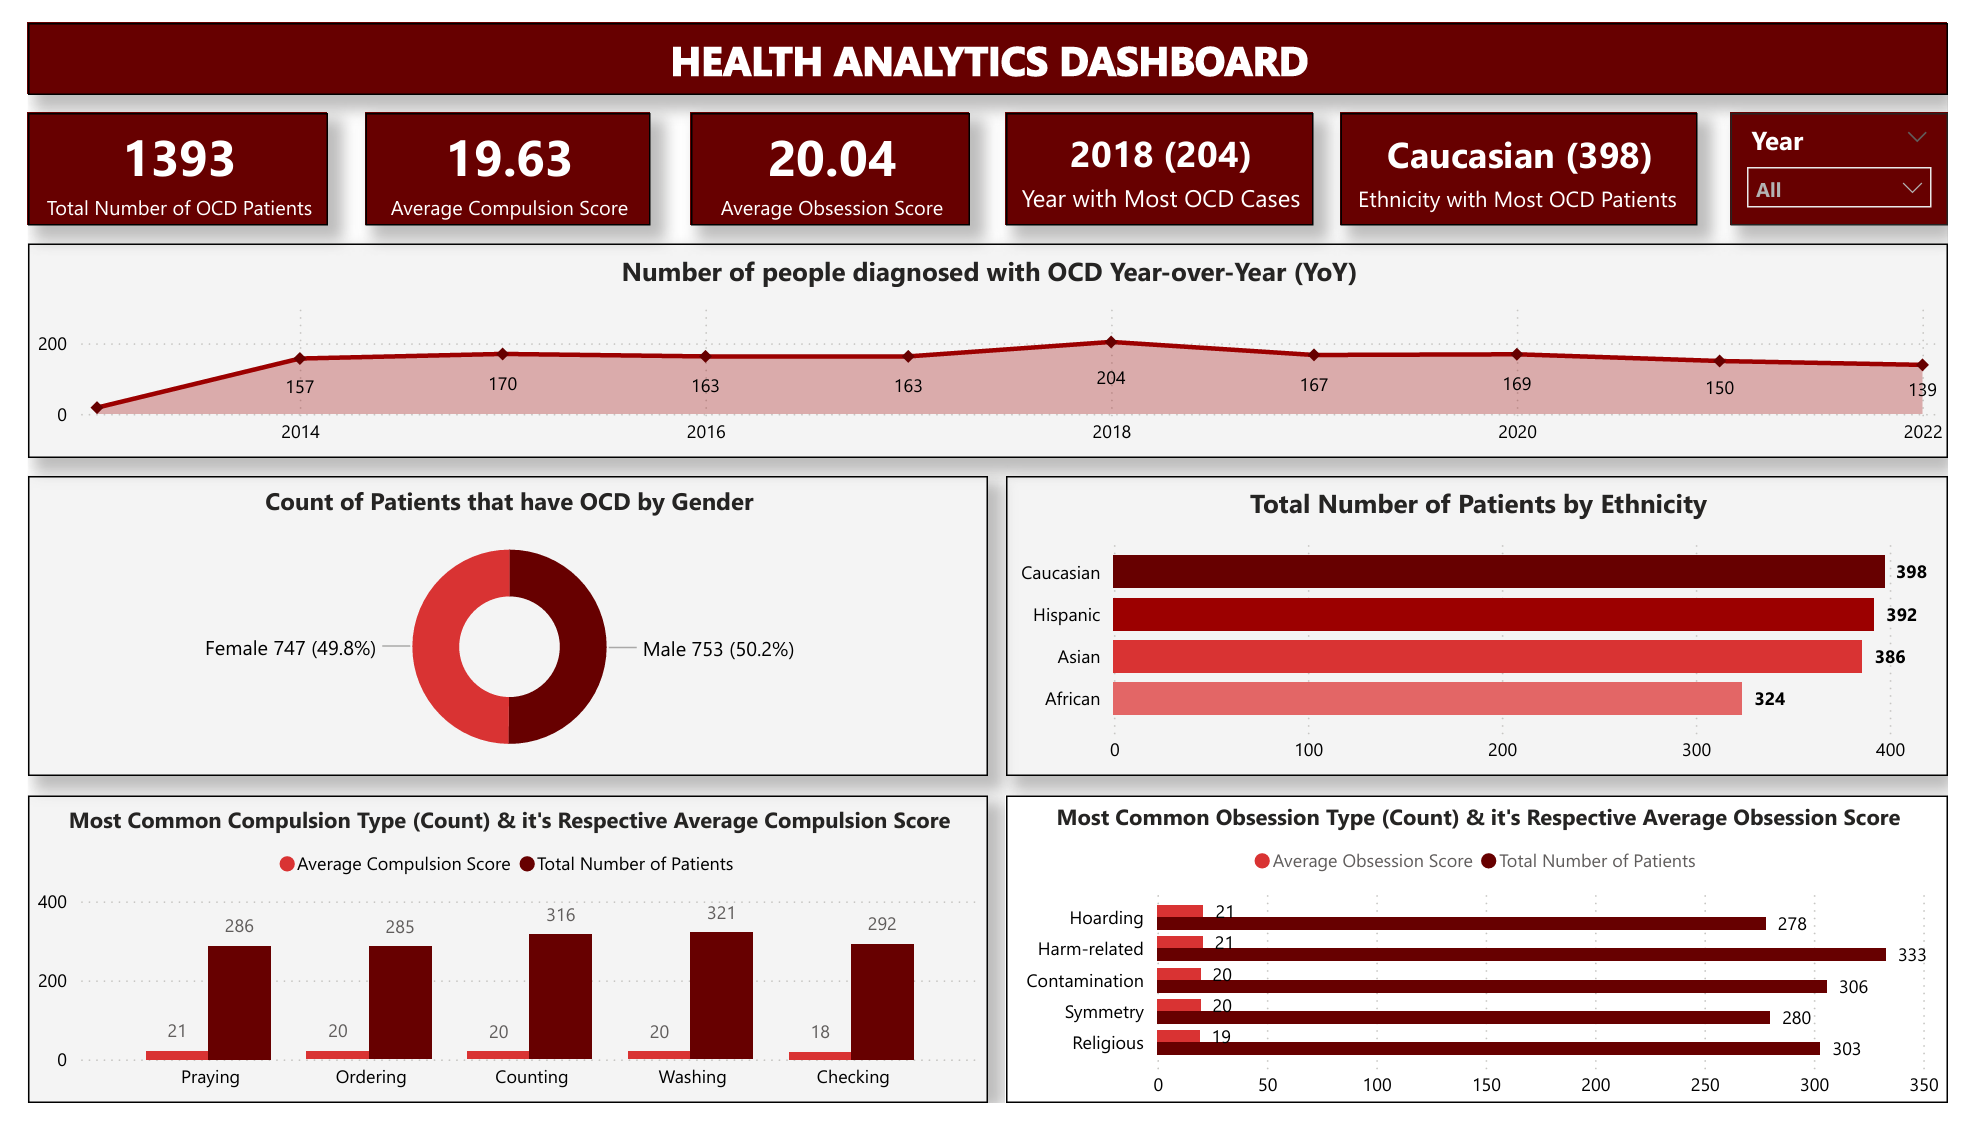

Layout of this report page (visuals, bound fields, positions):
{"tool":"powerbi","page":{"name":"Page 1","canvas":[1280,720],"ordinal":0},"visuals":[{"type":"textbox","box":[0,0,1280,48.3],"z":0},{"type":"stackedAreaChart","title":"Number of people diagnosed with OCD Year-over-Year (YoY)","fields":{"Category":["Number of people diagnosed with OCD Year-over-Year (YoY).year"],"Y":["Sum(Number of people diagnosed with OCD Year-over-Year (YoY).patient_count)"]},"box":[0,146.7,1280,143.3],"z":1000},{"type":"donutChart","title":"Count of Patients that have OCD by Gender","fields":{"Y":["Sum(Count of Female vs Male that have OCD & Average Obsession Score by Gender.patient_count)"],"Category":["Count of Female vs Male that have OCD & Average Obsession Score by Gender.gender"]},"box":[0,301.7,640,200],"z":2000},{"type":"clusteredBarChart","fields":{"Category":["Count of Patients by Ethnicity and their respective Average Obsession Score.ethnicity"],"Y":["Sum(Count of Patients by Ethnicity and their respective Average Obsession Score.patient_count)"]},"box":[651.7,301.7,628.3,200],"z":3000},{"type":"clusteredColumnChart","title":"Most Common Compulsion Type (Count) & it''s Respective Average Compulsion Score","fields":{"Category":["Most Common Compulsion type (Count) & it's respective Average Compulsion Score.compulsion_type"],"Y":["Sum(Most Common Compulsion type (Count) & it's respective Average Compulsion Score.compulsion_score)","Sum(Most Common Compulsion type (Count) & it's respective Average Compulsion Score.patient_count)"]},"box":[0,515,640,205],"z":4000},{"type":"clusteredBarChart","title":"Most Common Obsession Type (Count) & it''s Respective Average Obsession Score","fields":{"Category":["Most Common Obsession Type (Count) & it's respective Average Obsession Score.obsession_type"],"Y":["Sum(Most Common Obsession Type (Count) & it's respective Average Obsession Score.obs_score)","Sum(Most Common Obsession Type (Count) & it's respective Average Obsession Score.patient_count)"]},"box":[651.7,515,628.3,205],"z":5000},{"type":"card","fields":{"Values":["Count(ocd_patient_dataset.Patient ID)"]},"box":[0,60,200,75],"z":6000},{"type":"card","fields":{"Values":["Avg(Most Common Compulsion type (Count) & it's respective Average Compulsion Score.compulsion_score)"]},"box":[225,60,190,75],"z":7000},{"type":"card","fields":{"Values":["Avg(Count of Patients by Ethnicity and their respective Average Obsession Score.obs_score)"]},"box":[441.7,60,186.7,75],"z":8000},{"type":"textbox","box":[651.7,60,205,75],"z":9000},{"type":"textbox","box":[875,60,238.3,75],"z":10000},{"type":"slicer","fields":{"Values":["Number of people diagnosed with OCD Year-over-Year (YoY).year"]},"box":[1135,60,145,75],"z":11000}]}

Visuals, with their boxes in screenshot pixels (x1, y1, x2, y2), scaled from the page's 1280x720 canvas onto the 1969x1121 screenshot:
textbox: [left=0, top=0, right=1968, bottom=75]
"Number of people diagnosed with OCD Year-over-Year (YoY)" stackedAreaChart: [left=0, top=228, right=1968, bottom=452]
"Count of Patients that have OCD by Gender" donutChart: [left=0, top=470, right=984, bottom=781]
clusteredBarChart - Count of Patients by Ethnicity and their respective Average Obsession Score.ethnicity x Sum(Count of Patients by Ethnicity and their respective Average Obsession Score.patient_count): [left=1002, top=470, right=1968, bottom=781]
"Most Common Compulsion Type (Count) & it''s Respective Average Compulsion Score" clusteredColumnChart: [left=0, top=802, right=984, bottom=1120]
"Most Common Obsession Type (Count) & it''s Respective Average Obsession Score" clusteredBarChart: [left=1002, top=802, right=1968, bottom=1120]
card - Count(ocd_patient_dataset.Patient ID): [left=0, top=93, right=308, bottom=210]
card - Avg(Most Common Compulsion type (Count) & it's respective Average Compulsion Score.compulsion_score): [left=346, top=93, right=638, bottom=210]
card - Avg(Count of Patients by Ethnicity and their respective Average Obsession Score.obs_score): [left=679, top=93, right=967, bottom=210]
textbox: [left=1002, top=93, right=1318, bottom=210]
textbox: [left=1346, top=93, right=1713, bottom=210]
slicer - Number of people diagnosed with OCD Year-over-Year (YoY).year: [left=1746, top=93, right=1968, bottom=210]
